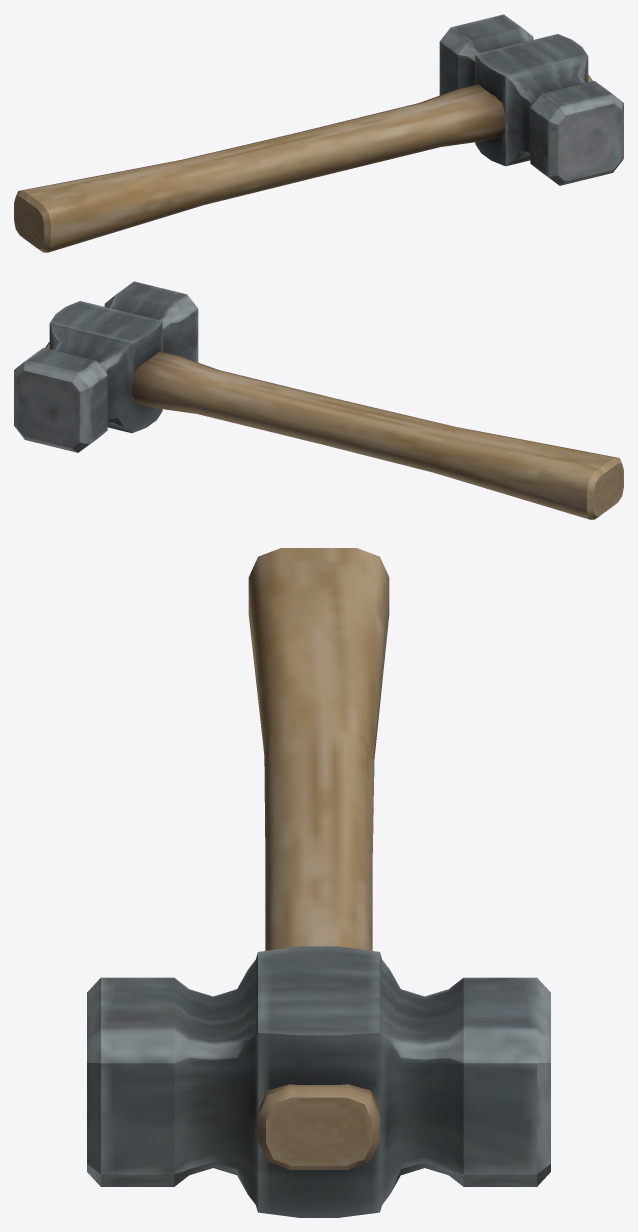
Rendered from hammer.fbx.
3 renders of one model, top to bottom at view 1: azimuth 30°, elevation 25°; view 2: azimuth 150°, elevation 25°; view 3: azimuth 270°, elevation 25°, orthographic. The views are drawn at different scales.
Visible parts, largest first — view 1: hammer; view 2: hammer; view 3: hammer.
Part boxes in pixels (bbox=[...]): hammer: bbox=[14, 14, 623, 252]; hammer: bbox=[14, 281, 623, 519]; hammer: bbox=[87, 548, 550, 1217].
Size of the model in its own units: 29.41 by 4.64 by 10.68.
